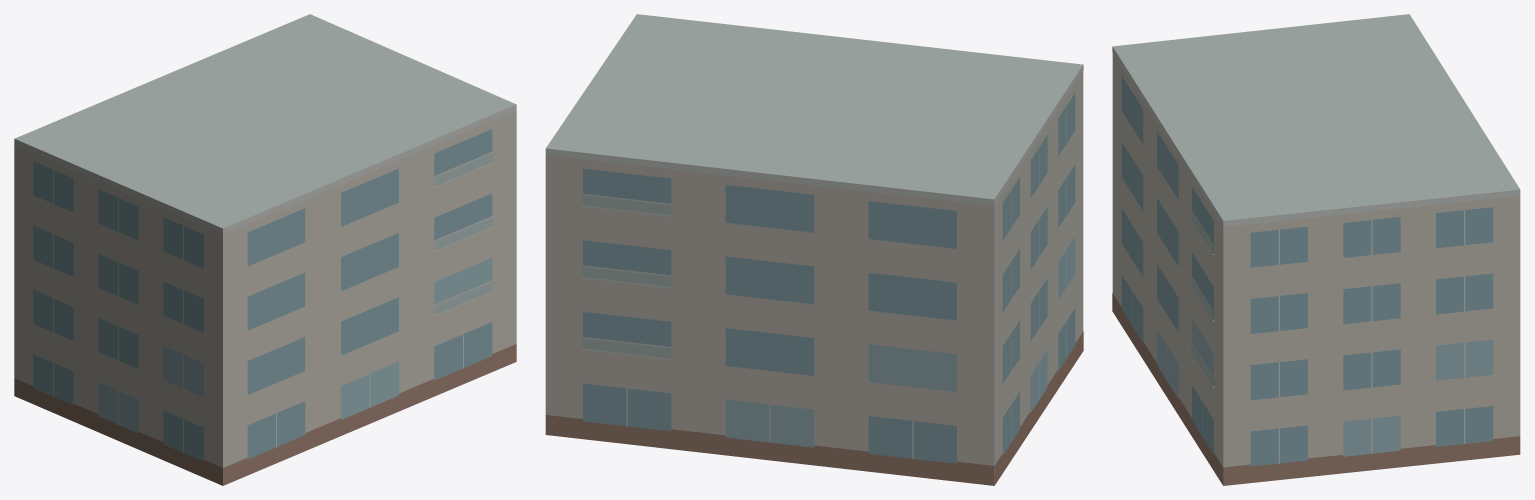
File: survey-upis-32569166.glb
3 views of the same model, side by side, from view 1: azimuth 30°, elevation 25°; view 2: azimuth 150°, elevation 25°; view 3: azimuth 270°, elevation 25° (orthographic). The views are drawn at different scales.
Parts seen in each view (by area): view 1: survey-upis-32569166.tmp; view 2: survey-upis-32569166.tmp; view 3: survey-upis-32569166.tmp.
Boxes of the visible parts, x1,y1,x2,y2 form: survey-upis-32569166.tmp: [14, 14, 516, 485]; survey-upis-32569166.tmp: [545, 14, 1083, 485]; survey-upis-32569166.tmp: [1112, 14, 1520, 485].
Size of the model in its own units: 17.59 by 10.5 by 14.66.
